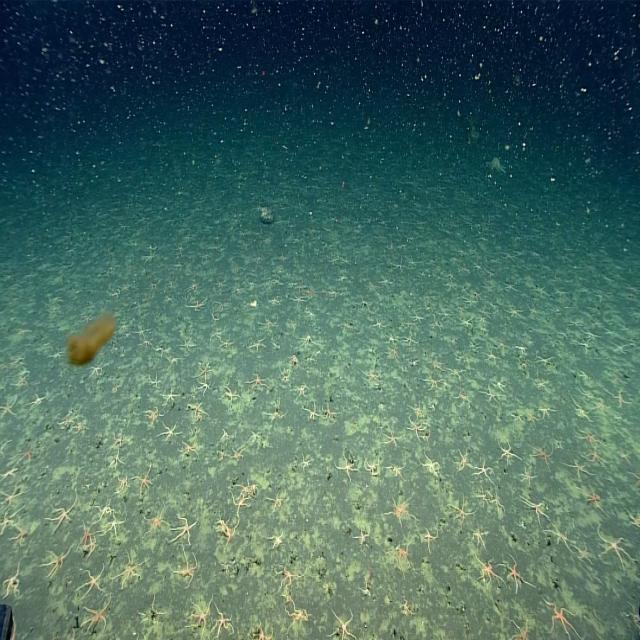brittle-stars: (597, 530, 631, 572), (541, 593, 576, 633), (174, 506, 198, 550), (82, 600, 112, 635), (170, 550, 197, 588), (188, 597, 213, 637), (329, 607, 358, 640), (273, 560, 301, 594), (520, 492, 548, 526), (44, 543, 70, 579), (48, 498, 76, 530), (500, 553, 524, 590), (78, 564, 107, 594), (118, 551, 140, 590), (132, 465, 158, 498), (387, 493, 413, 526), (228, 491, 252, 526), (3, 562, 23, 602), (283, 598, 310, 627), (544, 520, 570, 550), (562, 457, 591, 483), (186, 397, 210, 428), (389, 542, 412, 572), (573, 536, 594, 567), (215, 606, 234, 639), (579, 484, 603, 510), (182, 437, 204, 465), (0, 483, 25, 507), (528, 444, 552, 468), (475, 556, 495, 584), (496, 438, 516, 466), (13, 441, 37, 464), (104, 514, 124, 541), (0, 464, 22, 488), (570, 398, 591, 423), (450, 497, 467, 527), (336, 458, 359, 480), (585, 448, 608, 470), (472, 458, 492, 483), (0, 393, 19, 419), (161, 418, 178, 446), (407, 417, 426, 442), (96, 498, 117, 520), (420, 454, 441, 476), (575, 424, 596, 446), (142, 403, 160, 428), (422, 526, 439, 552), (509, 619, 530, 640), (532, 372, 552, 394), (246, 372, 266, 394), (111, 426, 130, 449), (266, 490, 286, 511), (300, 399, 318, 422), (453, 448, 470, 472), (27, 391, 47, 411), (220, 384, 240, 404), (253, 620, 273, 640), (354, 525, 371, 548), (423, 374, 442, 394), (80, 520, 94, 546), (535, 352, 554, 371), (386, 463, 406, 481), (277, 364, 292, 388), (89, 360, 105, 382), (162, 387, 178, 409), (472, 529, 487, 552), (524, 407, 539, 430), (195, 361, 212, 381), (363, 456, 380, 476), (321, 402, 338, 422), (484, 382, 499, 404), (107, 453, 125, 471), (383, 429, 400, 448), (270, 530, 284, 552), (115, 474, 132, 492), (505, 303, 522, 321), (179, 334, 195, 353), (216, 445, 230, 466), (393, 255, 407, 276), (362, 368, 380, 384), (246, 336, 264, 352), (402, 332, 418, 350), (484, 346, 498, 366), (538, 406, 555, 422), (532, 283, 548, 300), (230, 448, 245, 466), (520, 468, 535, 486), (455, 391, 471, 407), (290, 291, 306, 307), (147, 371, 162, 388), (410, 400, 424, 418), (409, 308, 423, 326), (257, 317, 276, 330), (379, 271, 392, 290), (298, 452, 310, 472), (459, 315, 474, 331), (387, 346, 399, 365), (304, 305, 316, 323), (384, 331, 398, 346), (502, 280, 517, 294), (187, 278, 200, 293), (482, 281, 494, 294)
